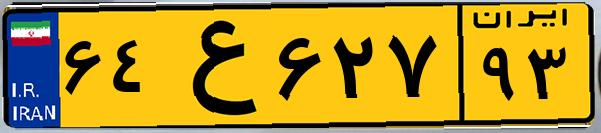2: (330, 28, 385, 110)
3: (525, 38, 570, 115)
4: (110, 28, 158, 98)
6: (270, 28, 330, 110), (57, 26, 110, 100)
7: (385, 28, 445, 110)
9: (475, 38, 525, 113)
ع: (158, 12, 270, 120)
